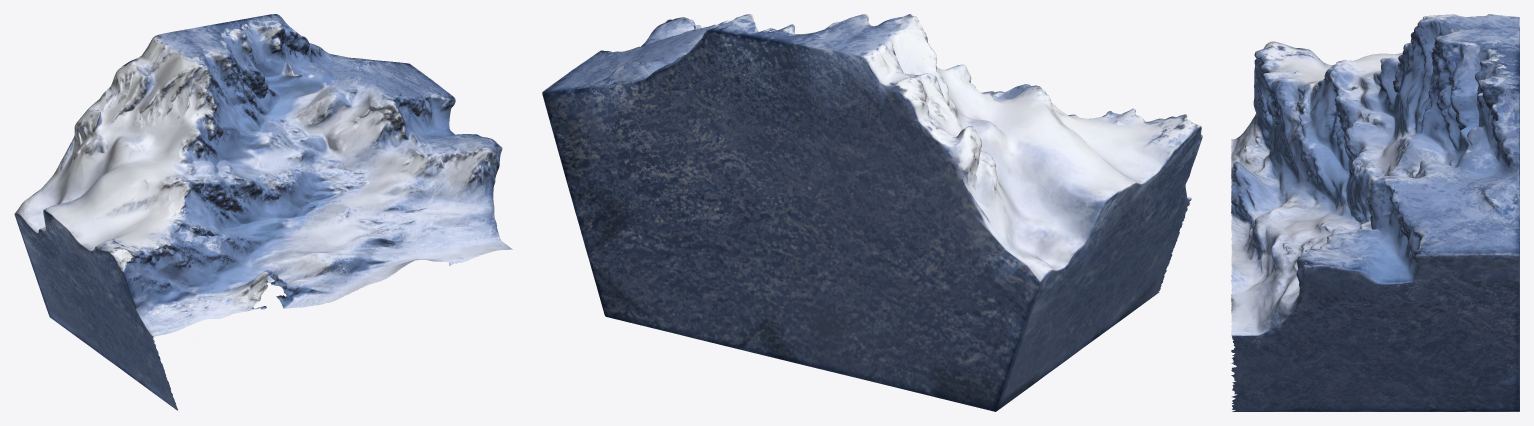
Rendered from dio_range.glb.
3 views of the same model, side by side, from view 1: azimuth 30°, elevation 25°; view 2: azimuth 150°, elevation 25°; view 3: azimuth 270°, elevation 25° (orthographic). The views are drawn at different scales.
Parts seen in each view (by area): view 1: tripo_node_78825c66-99da-498b-bcb2-90640228758a; view 2: tripo_node_78825c66-99da-498b-bcb2-90640228758a; view 3: tripo_node_78825c66-99da-498b-bcb2-90640228758a.
Boxes of the visible parts, x1,y1,x2,y2 form: tripo_node_78825c66-99da-498b-bcb2-90640228758a: [14, 14, 512, 410]; tripo_node_78825c66-99da-498b-bcb2-90640228758a: [542, 14, 1202, 411]; tripo_node_78825c66-99da-498b-bcb2-90640228758a: [1231, 14, 1519, 411].
Bounding box in the file's own units: 0.9796 × 0.5873 × 0.537.
Materials: 1 (1 with a texture image).
